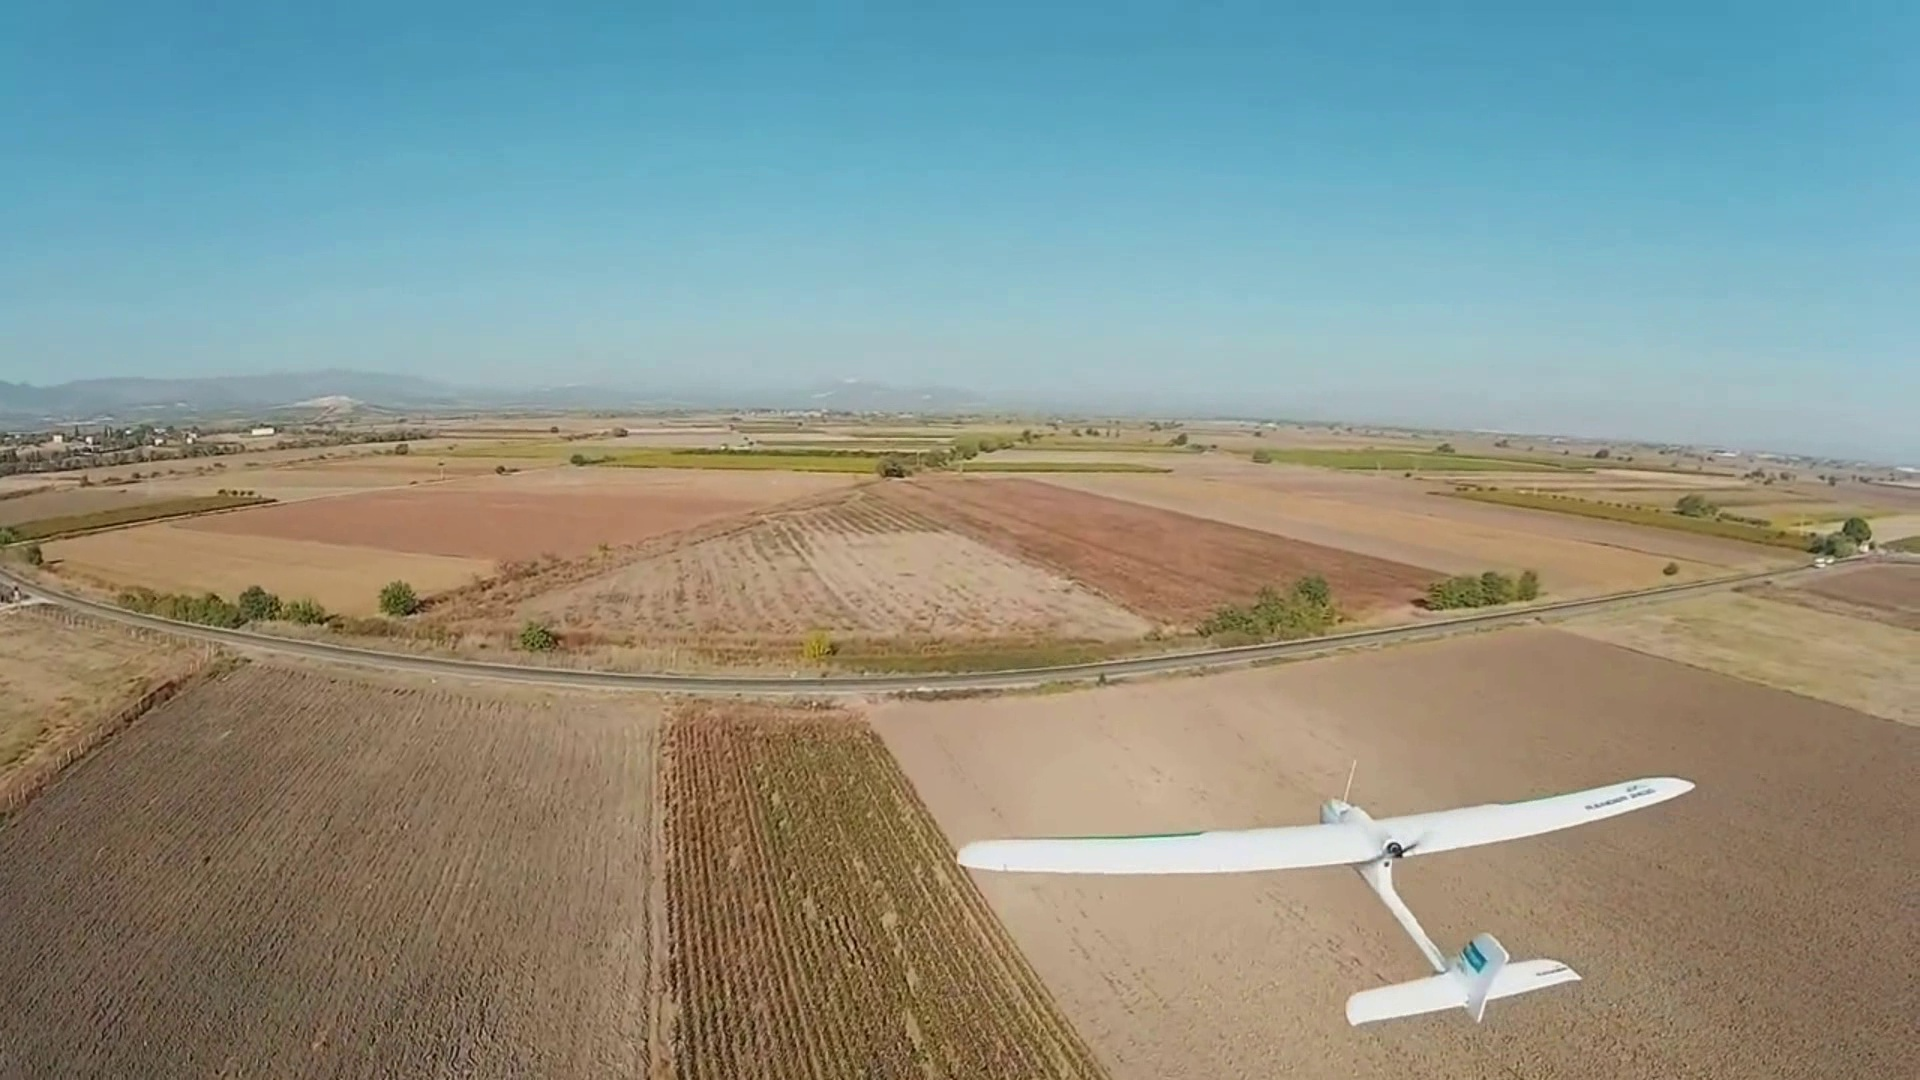airplane: (957, 769, 1701, 1025)
